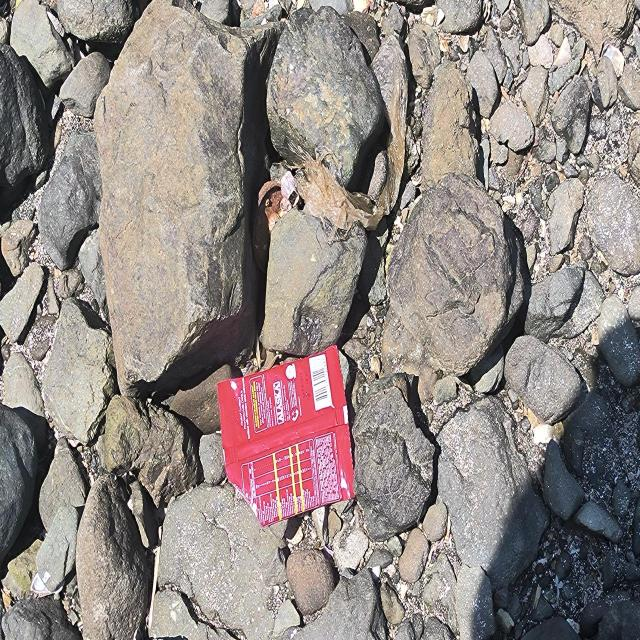plastic_waste: (217, 345, 357, 529)
